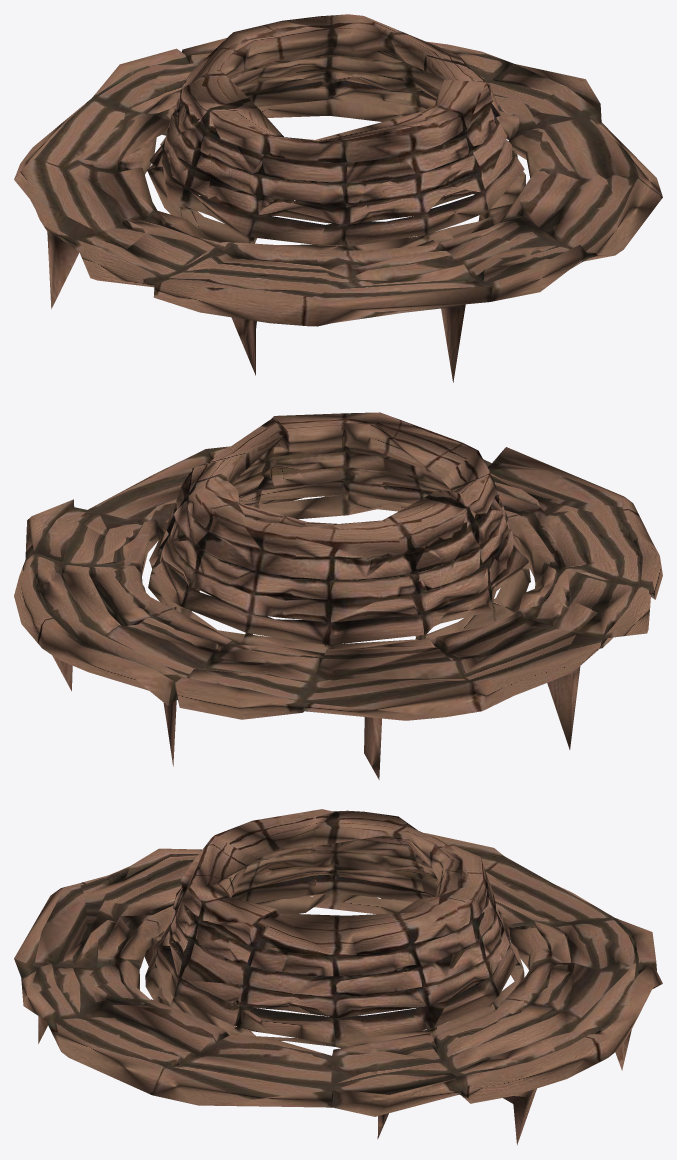
Rendered from seatbowl_lod1.glb.
3 renders of one model, top to bottom at view 1: azimuth 30°, elevation 25°; view 2: azimuth 150°, elevation 25°; view 3: azimuth 270°, elevation 25°, orthographic.
Visible parts, largest first — view 1: tripo_node_1c33e409-3047-463b-b077-431a1b02eb39; view 2: tripo_node_1c33e409-3047-463b-b077-431a1b02eb39; view 3: tripo_node_1c33e409-3047-463b-b077-431a1b02eb39.
Boxes of the visible parts, x1,y1,x2,y2 form: tripo_node_1c33e409-3047-463b-b077-431a1b02eb39: [14, 14, 662, 382]; tripo_node_1c33e409-3047-463b-b077-431a1b02eb39: [14, 412, 662, 779]; tripo_node_1c33e409-3047-463b-b077-431a1b02eb39: [14, 809, 662, 1145].
Size of the model in its own units: 2.43 by 0.7998 by 2.46.
1 material, 1 textured.
